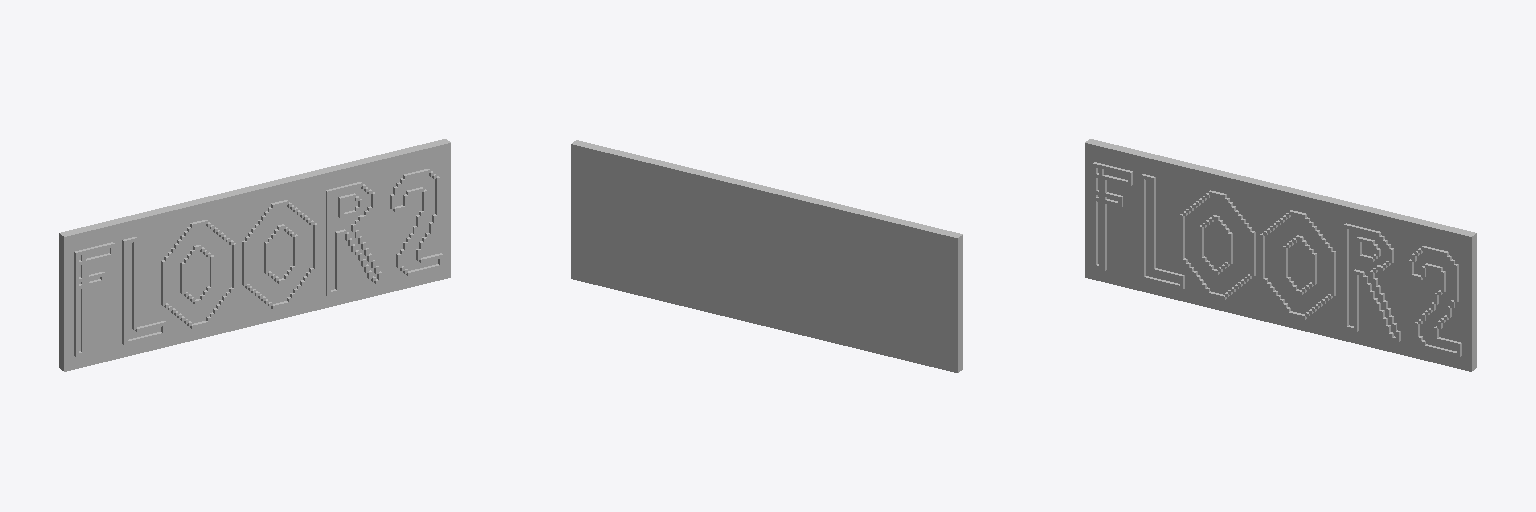
File: floor 2.obj
The picture shows the model from 3 angles: view 1: azimuth 30°, elevation 25°; view 2: azimuth 150°, elevation 25°; view 3: azimuth 330°, elevation 25°; orthographic projection.
Visible parts, largest first — view 1: object 1; view 2: object 1; view 3: object 1.
Boxes of the visible parts, x1=… form: object 1: x1=59, y1=139, x2=450, y2=371; object 1: x1=571, y1=140, x2=962, y2=372; object 1: x1=1085, y1=139, x2=1476, y2=371.
Size of the model in its own units: 12 by 4 by 0.4.